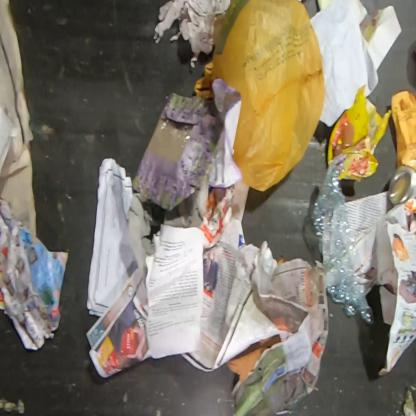cardboard: (132, 92, 221, 213), (228, 335, 282, 384)
metal: (387, 164, 415, 218)
rigid_plastic: (311, 154, 373, 325)
soft_plastic: (194, 1, 326, 194), (328, 84, 392, 181)
